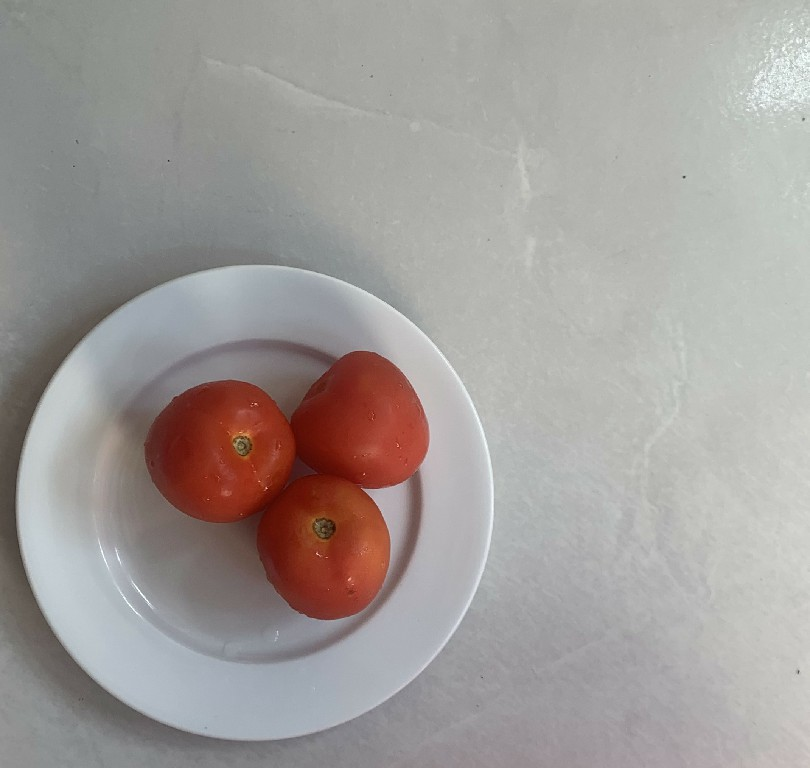OK: (139, 376, 298, 526), (255, 477, 394, 626), (293, 346, 426, 485)
